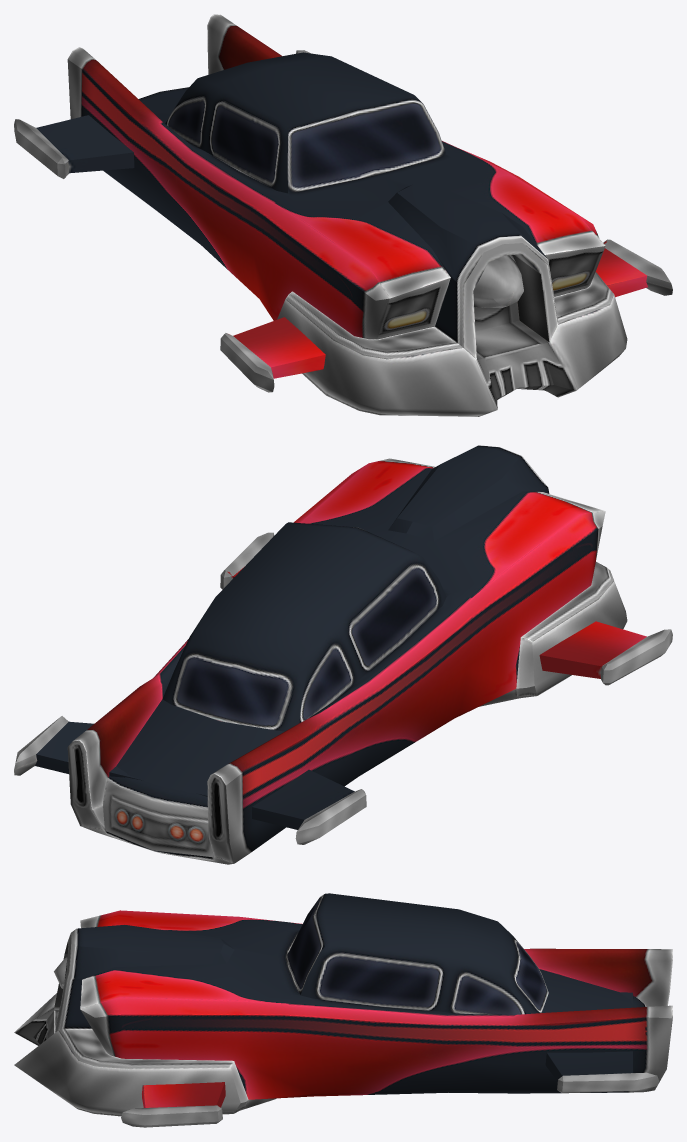
File: JpJavi_low.FBX
3 views of the same model, one above another, from view 1: azimuth 30°, elevation 25°; view 2: azimuth 150°, elevation 25°; view 3: azimuth 270°, elevation 25° (orthographic). The views are drawn at different scales.
Parts seen in each view (by area): view 1: JpJavi; view 2: JpJavi; view 3: JpJavi.
Boxes of the visible parts, box(x1,y1,x2,y2) form: JpJavi: box(14, 14, 672, 416); JpJavi: box(14, 445, 672, 864); JpJavi: box(14, 893, 672, 1127).
Bounding box in the file's own units: 1.92 × 0.8926 × 3.15.
